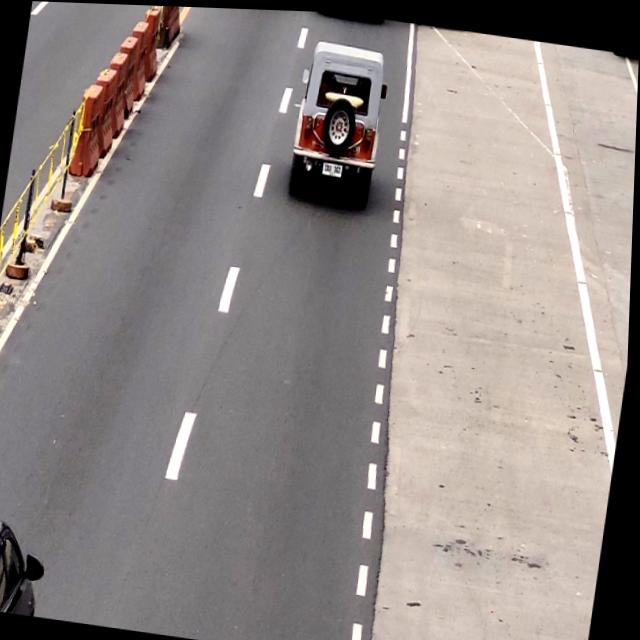Car: (0, 522, 55, 616)
Jeep: (286, 29, 397, 205)
